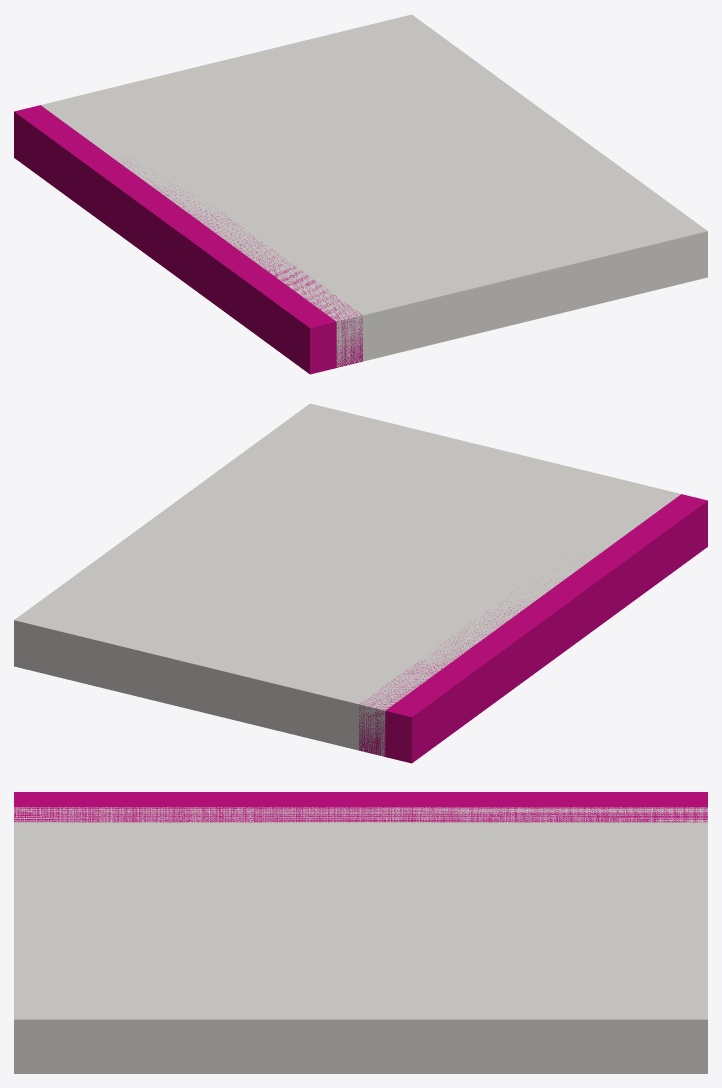
The model's file is product-book.glb.
3 renders of one model, top to bottom at view 1: azimuth 30°, elevation 25°; view 2: azimuth 150°, elevation 25°; view 3: azimuth 270°, elevation 25°, orthographic. The views are drawn at different scales.
Size of the model in its own units: 0.45 by 0.05 by 0.58.
